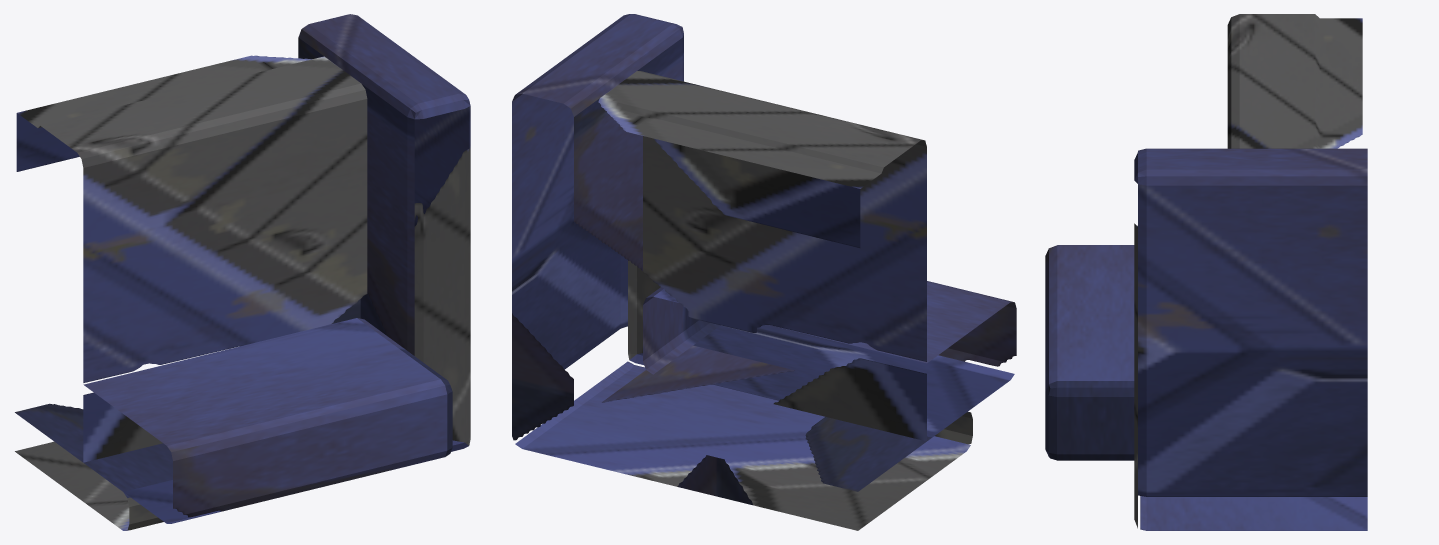
The picture shows the model from 3 angles, left to right: view 1: azimuth 30°, elevation 25°; view 2: azimuth 150°, elevation 25°; view 3: azimuth 270°, elevation 25°; orthographic projection.
Bounding box in the file's own units: 0.8358 × 0.8199 × 0.7807.
